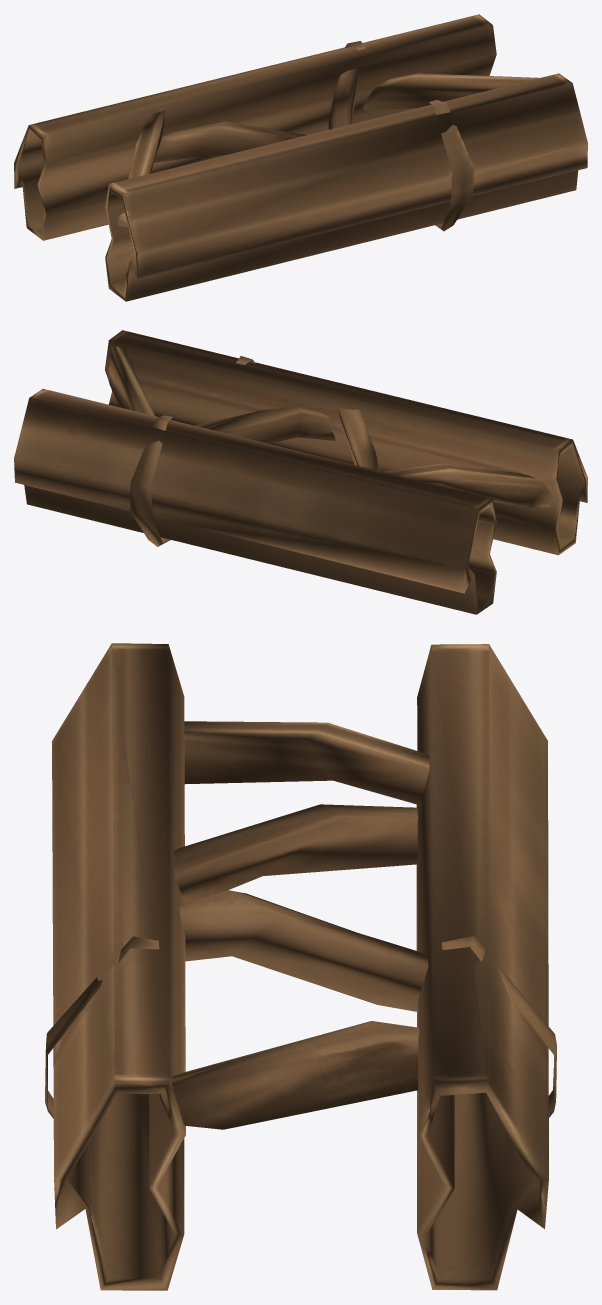
Rendered from Meshy_AI_Metal_Truss_0831082332_texture.fbx.
The picture shows the model from 3 angles, top to bottom: view 1: azimuth 30°, elevation 25°; view 2: azimuth 150°, elevation 25°; view 3: azimuth 270°, elevation 25°; orthographic projection. The views are drawn at different scales.
Parts seen in each view (by area): view 1: mesh_node; view 2: mesh_node; view 3: mesh_node.
Part boxes in pixels (box(x1,y1,x2,y2)): mesh_node: box(14, 14, 587, 301); mesh_node: box(14, 330, 587, 614); mesh_node: box(45, 643, 556, 1290).
Size of the model in its own units: 100 by 26.27 by 49.32.
Materials: 1 (1 with a texture image).
